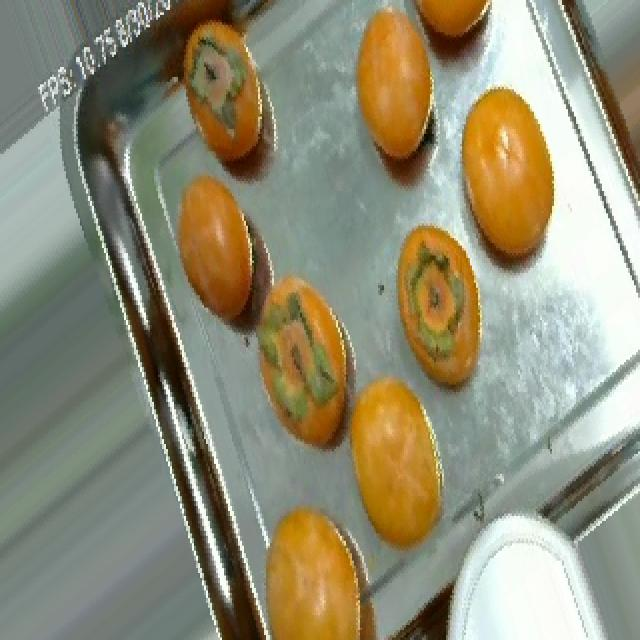Fruit: (438, 59, 584, 283), (150, 144, 300, 352), (328, 350, 466, 570), (378, 203, 508, 414), (334, 0, 462, 181)
